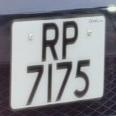1: (44, 60, 57, 105)
5: (74, 57, 93, 100)
7: (24, 61, 47, 108), (53, 59, 75, 105)
P: (59, 17, 81, 62)
R: (35, 18, 63, 64)
